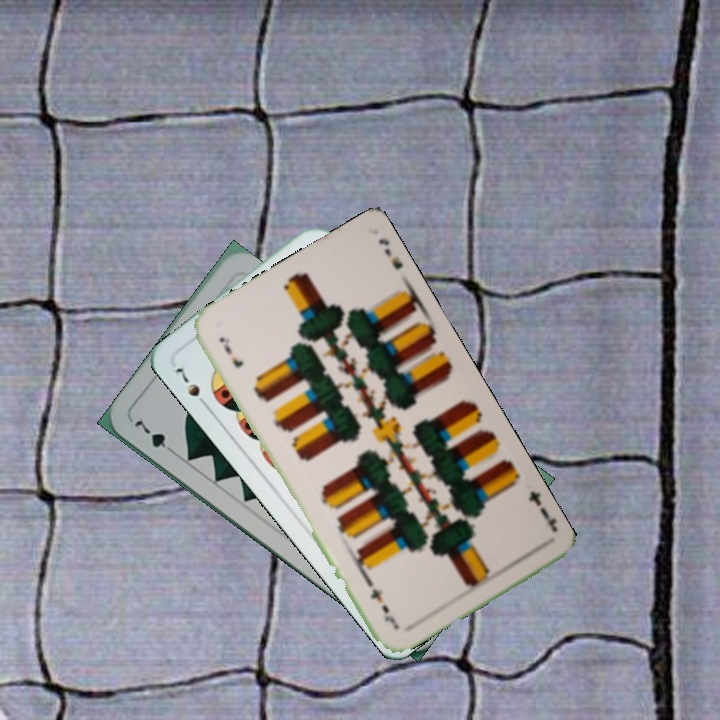E7: (524, 486, 560, 534), (215, 332, 246, 371)
G7: (130, 416, 180, 458)
S7: (170, 363, 212, 411)
